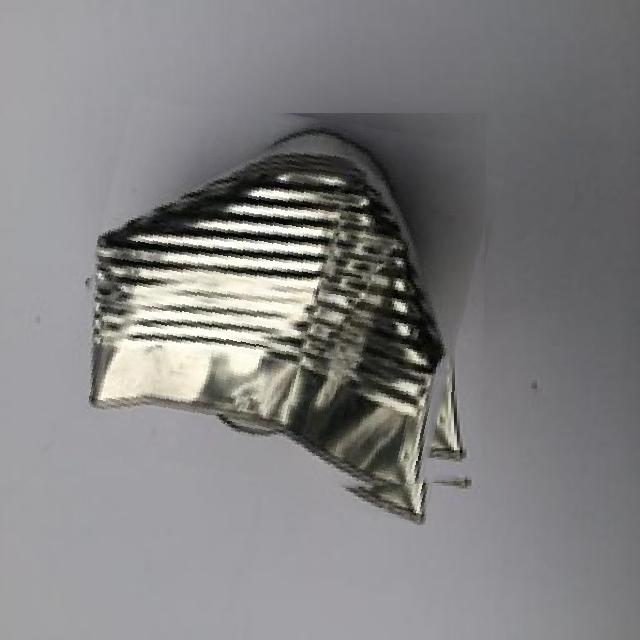recyclable: (72, 114, 487, 508)
